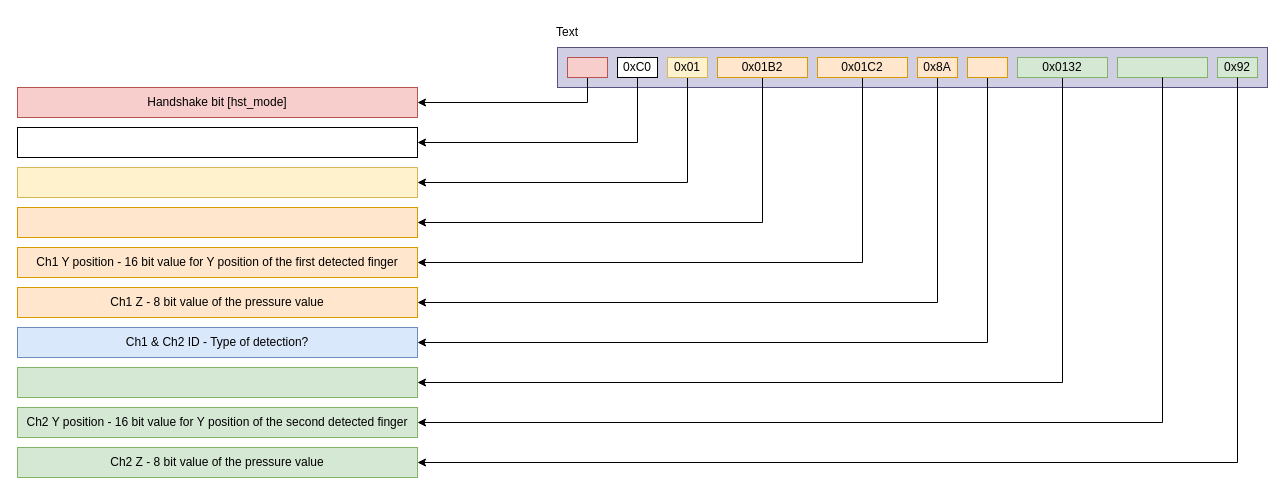
This 1285x495 diagram has some shape labels left out. The shapes that lost their labels are listed below. From the top down, each one's centre as x and y in pixels, then its label:
At point 587,67: "0x00".
At point 987,67: "0x1F".
At point 1162,67: "0x0269".
At point 217,142: "[tt_mode] - Changes with each read? (0x00, 0x40, 0x80, 0xC0)".
At point 217,182: "[tt_stat] - Number of detected fingers (0, 1 or 2)".
At point 217,222: "Ch 1 X position - 16 bit value for X position of the first detected finger".
At point 217,382: "Ch2 X position - 16 bit value for X position of the second detected finger".
